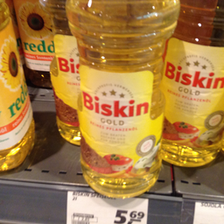oil: (65, 1, 179, 199)
